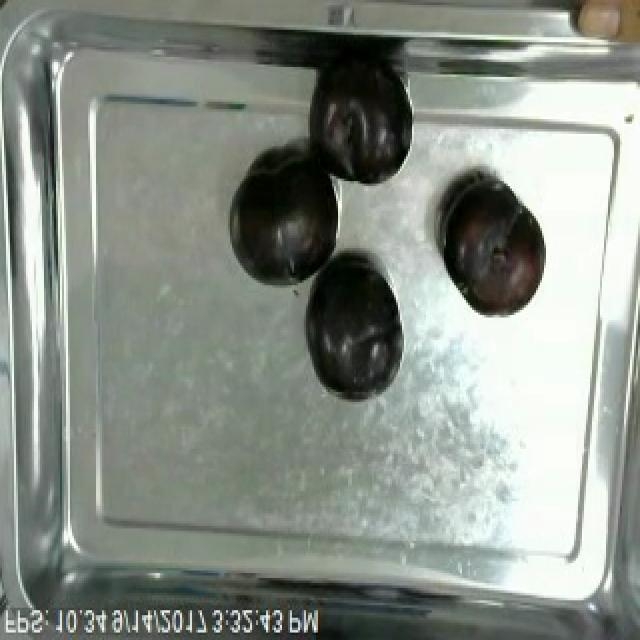Fruit: (438, 181, 552, 323), (300, 252, 404, 404), (228, 157, 342, 290), (326, 62, 412, 191), (564, 0, 640, 60)
